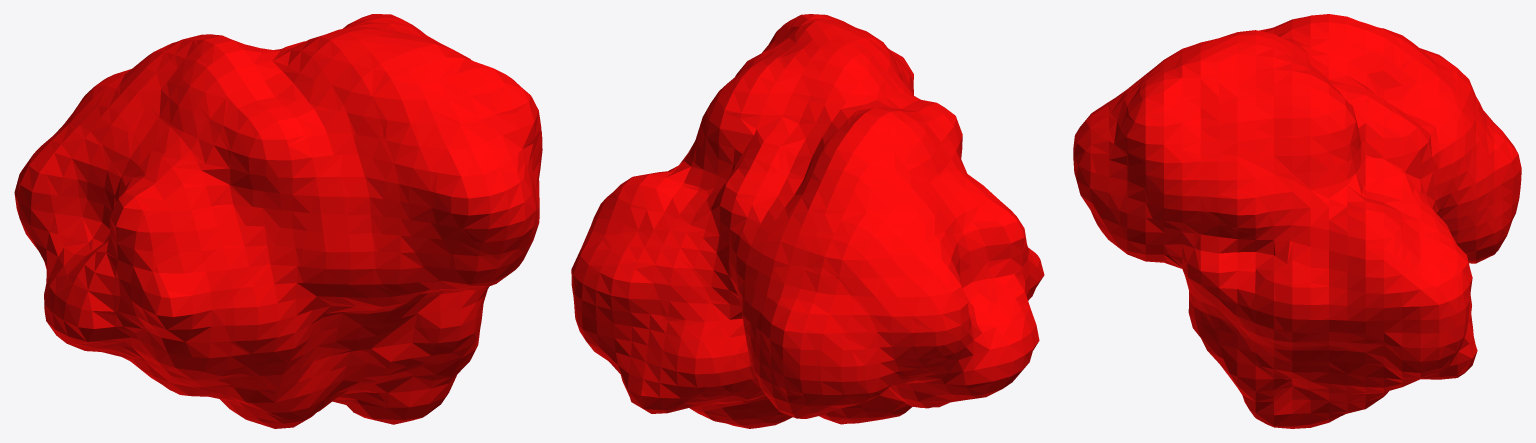
The model's file is mpl_coarse.dae.
3 views of the same model, side by side, from view 1: azimuth 30°, elevation 25°; view 2: azimuth 150°, elevation 25°; view 3: azimuth 270°, elevation 25° (orthographic). The views are drawn at different scales.
Visible parts, largest first — view 1: mpl; view 2: mpl; view 3: mpl.
Part boxes in pixels (left/top/right/bottom): mpl: left=14, top=14, right=542, bottom=428; mpl: left=571, top=14, right=1044, bottom=428; mpl: left=1073, top=14, right=1521, bottom=428.
Size of the model in its own units: 66.64 by 58.1 by 65.15.
